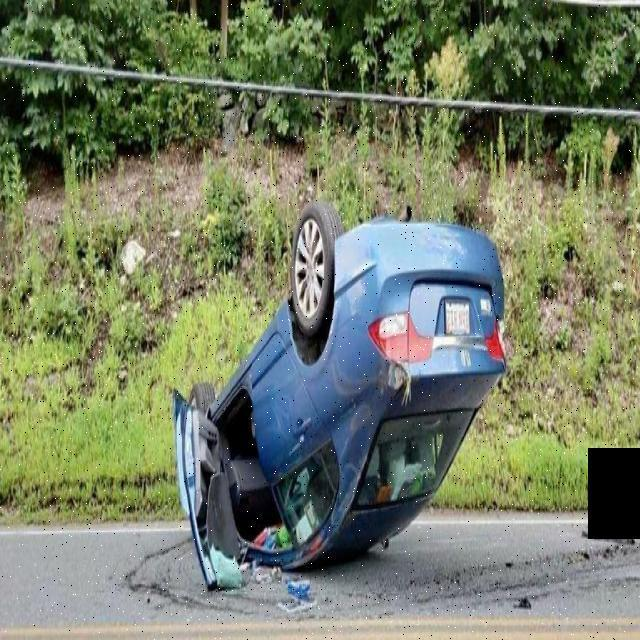multiple_accident: (0, 156, 586, 622)
